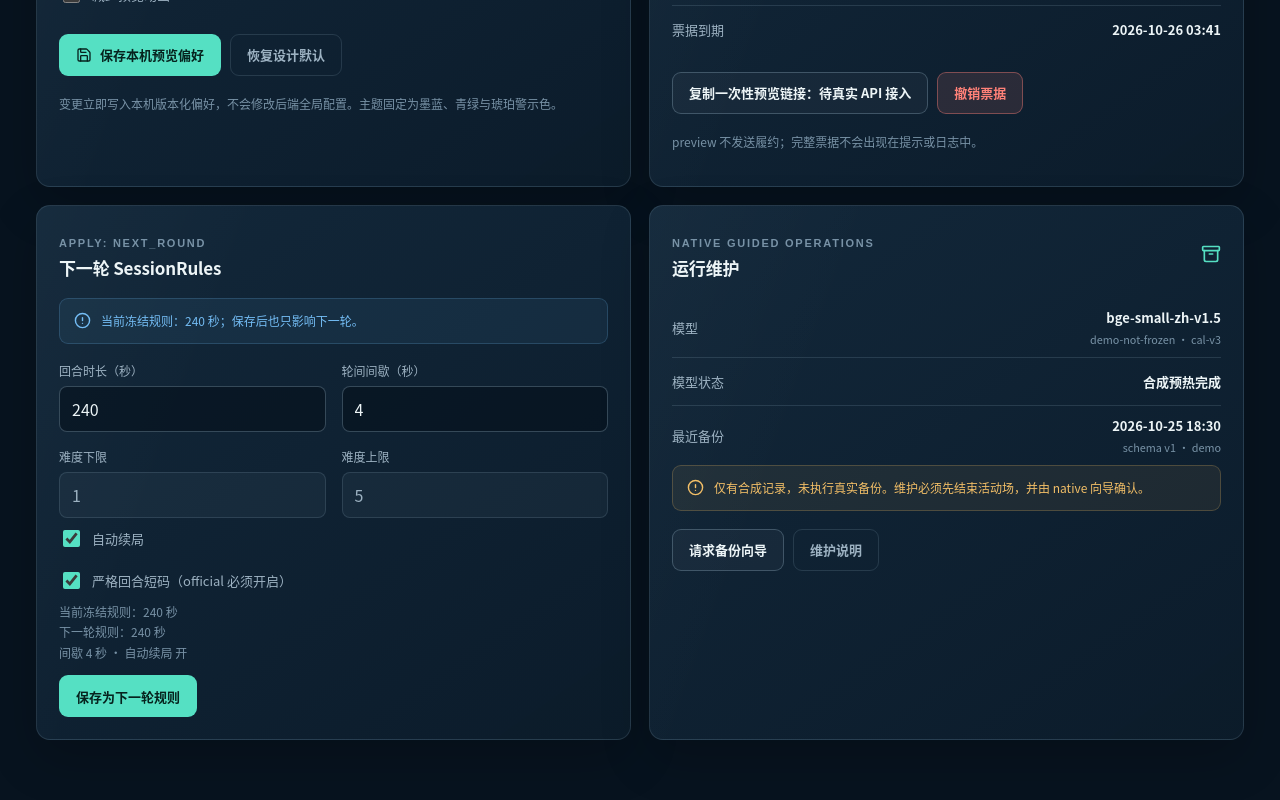
设置与展示预览 › 保存下一轮规则后当前轮冻结规则保持不变
(page scrolled)
Replace the text in the number field labelled "回合时长（秒）" with "300": (192, 409) [59,386,326,432]
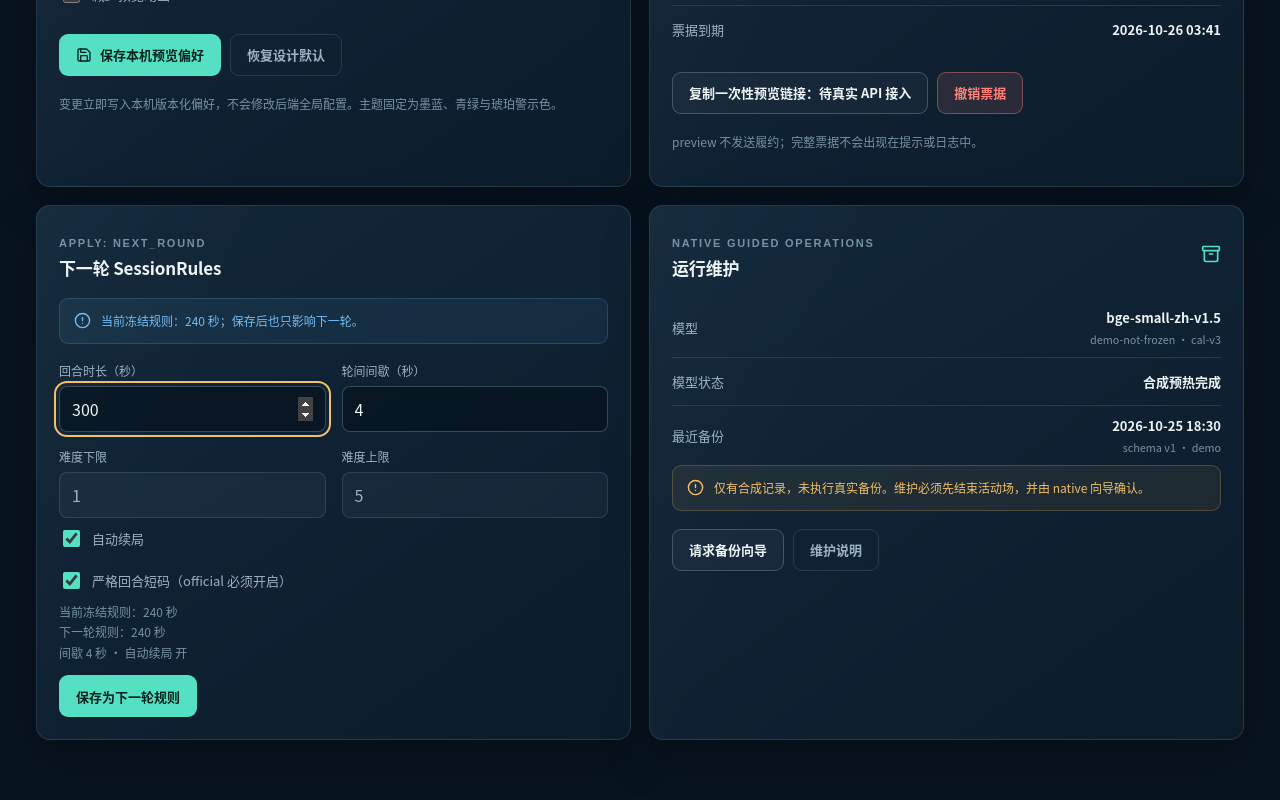
Click the button "保存为下一轮规则": (128, 696) [59,675,197,717]
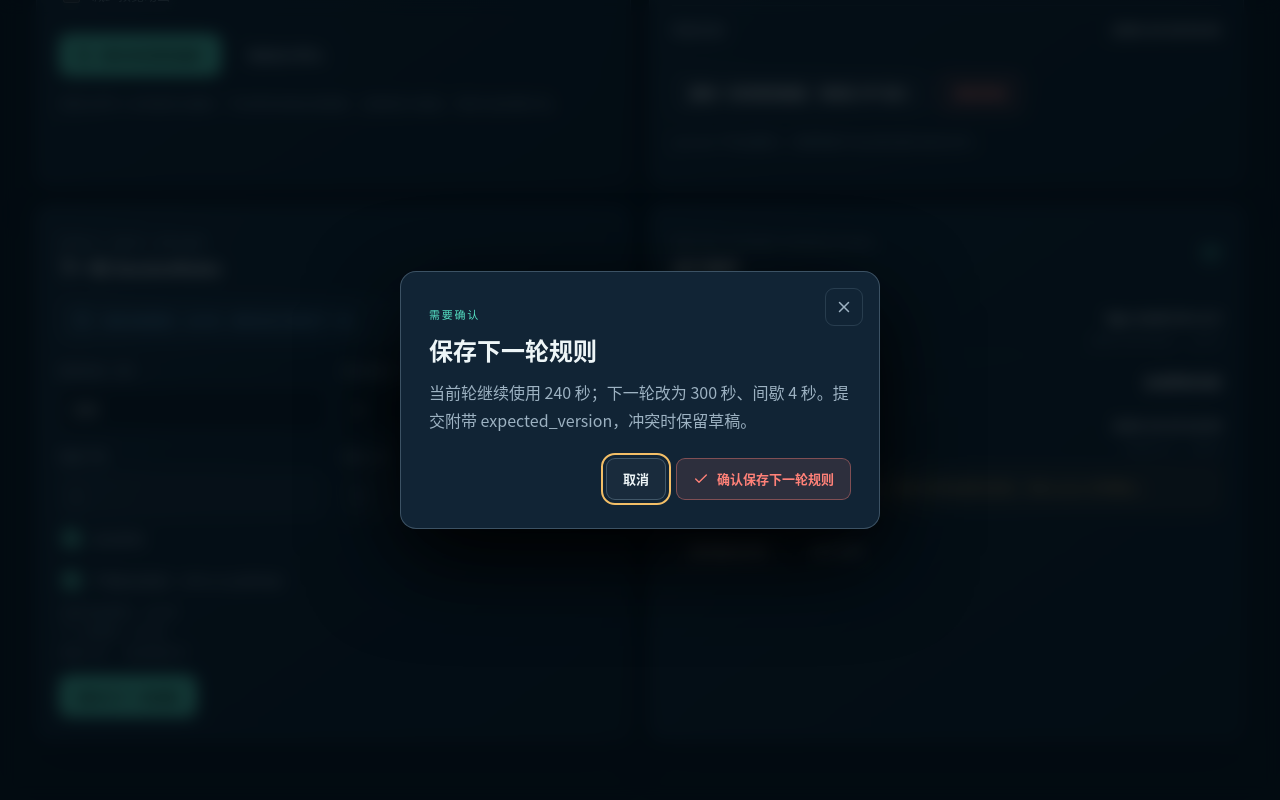
Result: the dialog shows "当前轮继续使用 240 秒" at [429,380,849,432]
Click the button "确认保存下一轮规则": (764, 479) [676,458,851,500]
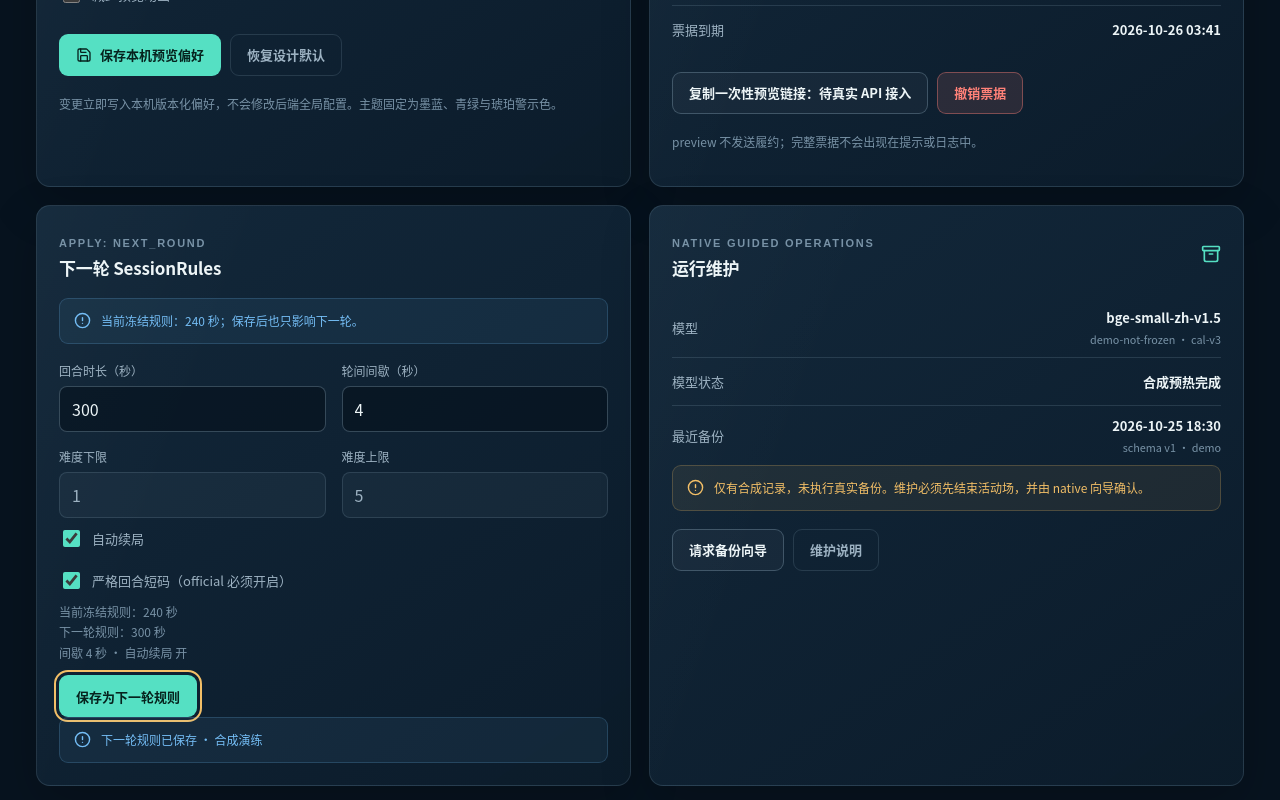
Expected: the text "当前冻结规则：240 秒；保存后也只影响下一轮。" is shown, [101,311,364,331]
Result: the text "下一轮规则已保存 · 合成演练" is shown at [101,730,262,750]
